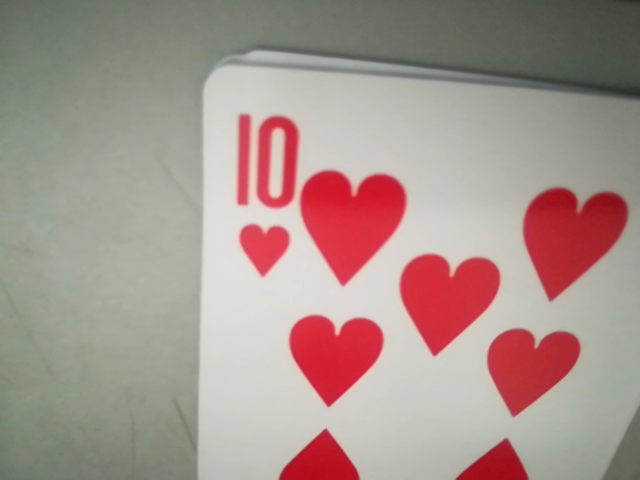hx 10: (224, 110, 306, 276)
